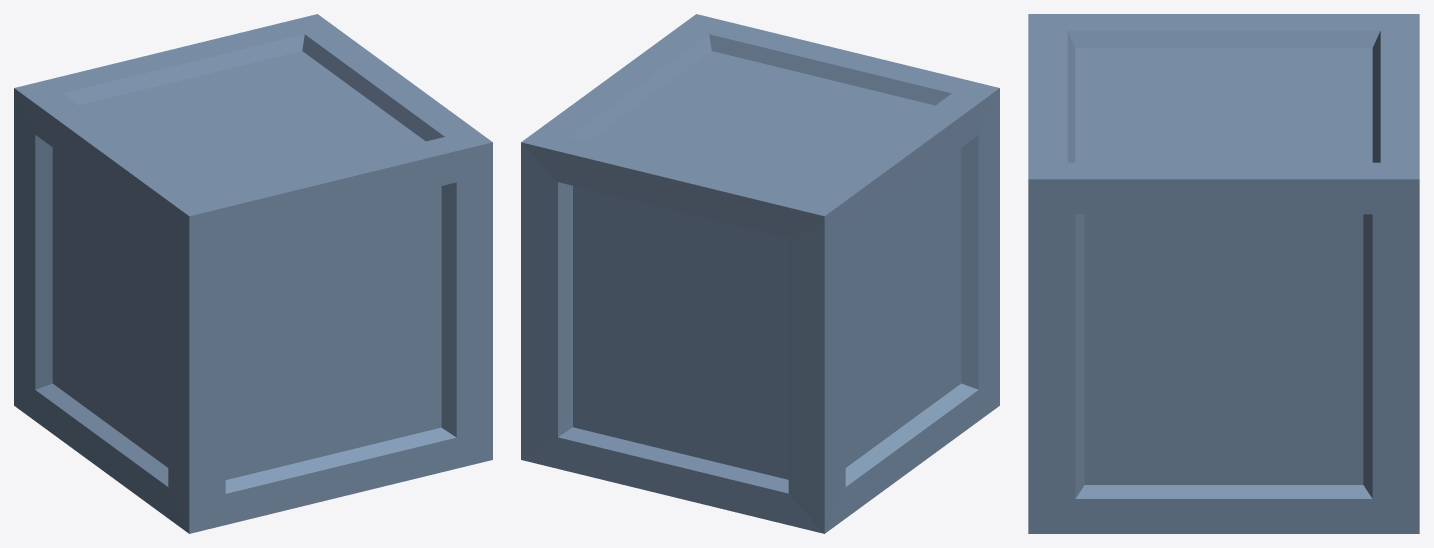
File: rcCrateNormal.FBX
3 views of the same model, side by side, from view 1: azimuth 30°, elevation 25°; view 2: azimuth 150°, elevation 25°; view 3: azimuth 270°, elevation 25° (orthographic). The views are drawn at different scales.
Parts seen in each view (by area): view 1: crateCubeNormal; view 2: crateCubeNormal; view 3: crateCubeNormal.
Part boxes in pixels (bbox=[...]): crateCubeNormal: bbox=[14, 14, 492, 533]; crateCubeNormal: bbox=[521, 14, 999, 533]; crateCubeNormal: bbox=[1028, 14, 1419, 533].
Size of the model in its own units: 0.5 by 0.5 by 0.5001.
